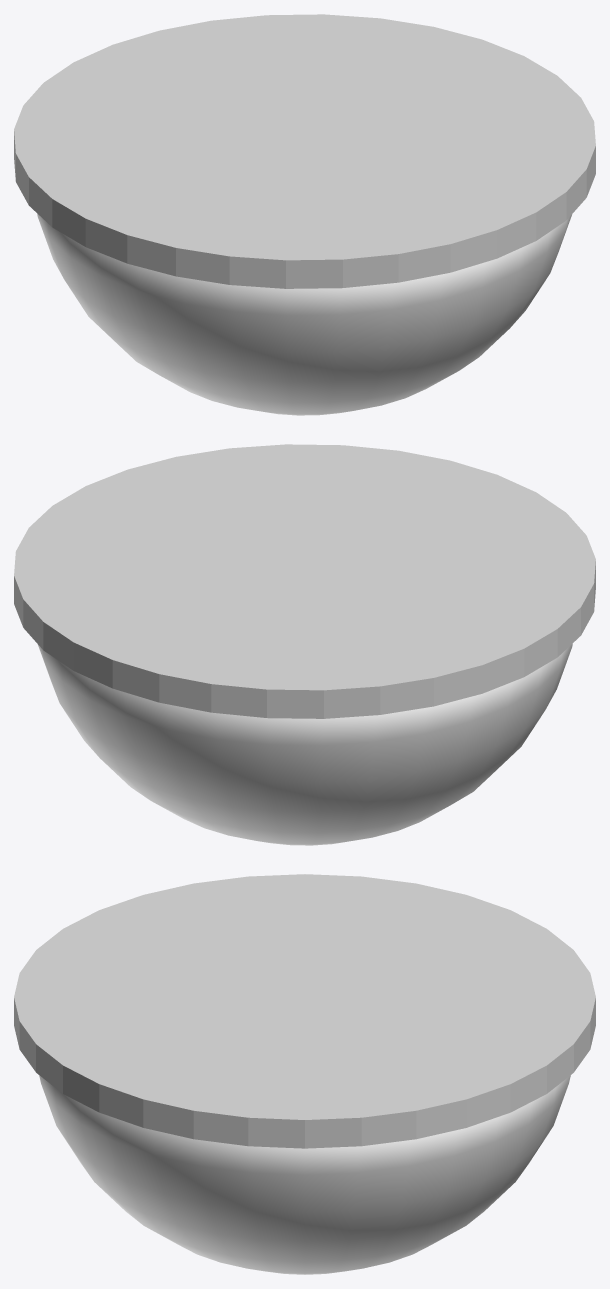
File: Domed Ceiling Camera.fbx
3 renders of one model, top to bottom at view 1: azimuth 30°, elevation 25°; view 2: azimuth 150°, elevation 25°; view 3: azimuth 270°, elevation 25°, orthographic.
Visible parts, largest first — view 1: Domed Ceiling Camera; view 2: Domed Ceiling Camera; view 3: Domed Ceiling Camera.
Boxes of the visible parts, x1,y1,x2,y2 form: Domed Ceiling Camera: (14,14,595,415); Domed Ceiling Camera: (14,444,595,845); Domed Ceiling Camera: (14,874,595,1274).
Size of the model in its own units: 23.87 by 11.36 by 23.87.
Materials: 2 (1 with a texture image).
